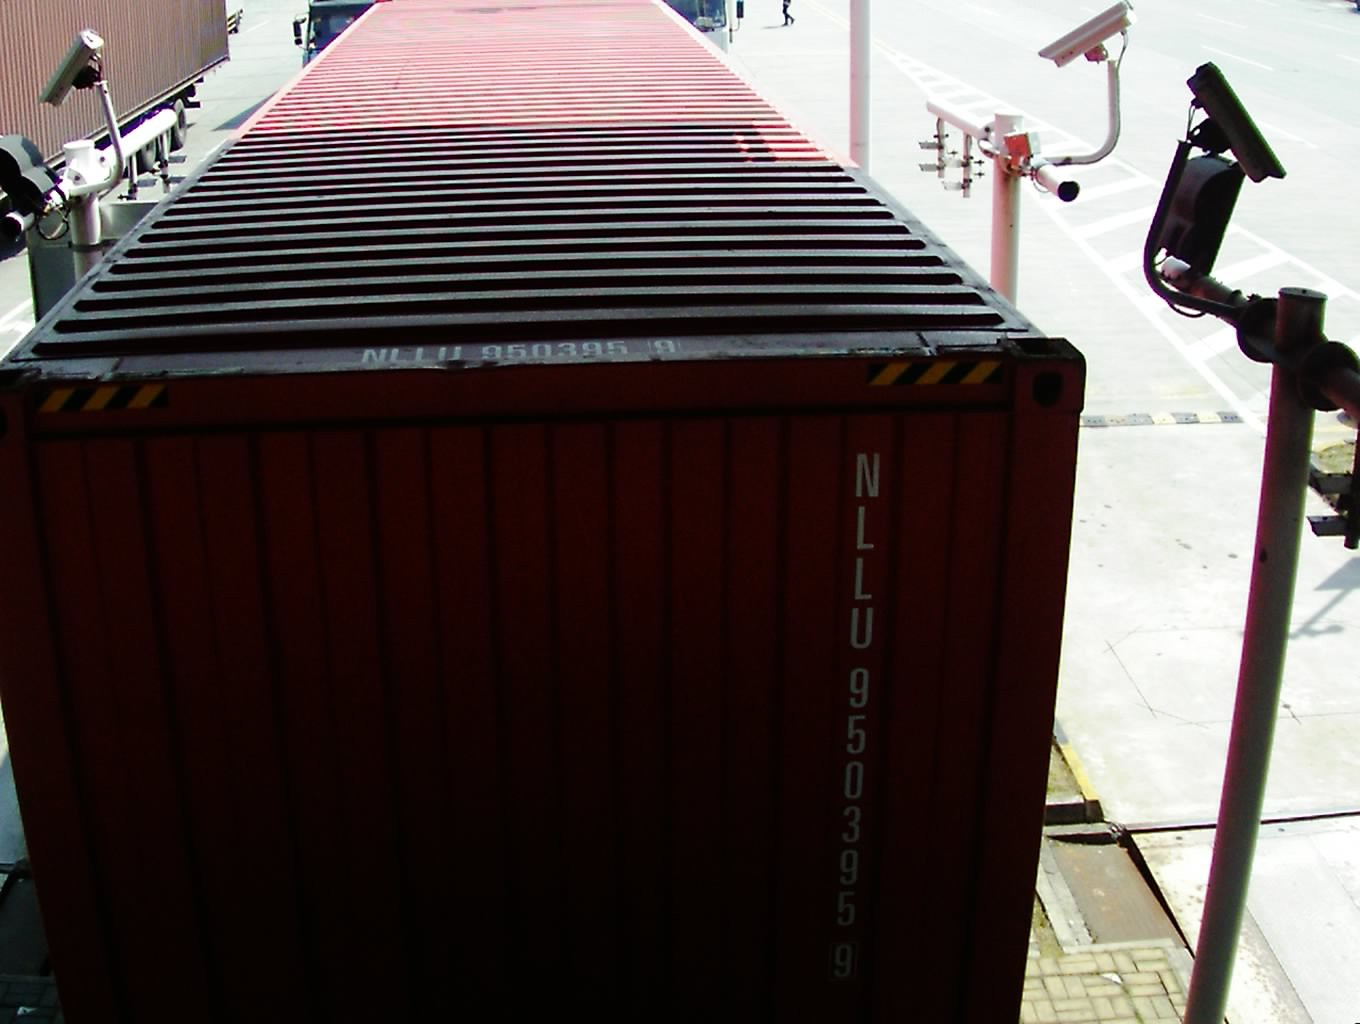words: (819, 443, 888, 984)
